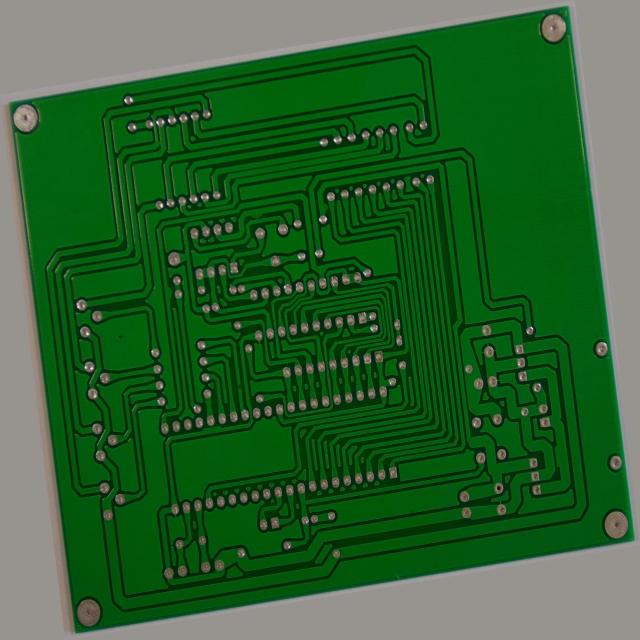spur: (150, 246, 165, 277), (556, 505, 566, 541), (175, 418, 202, 431), (255, 181, 275, 195), (333, 180, 344, 202)
